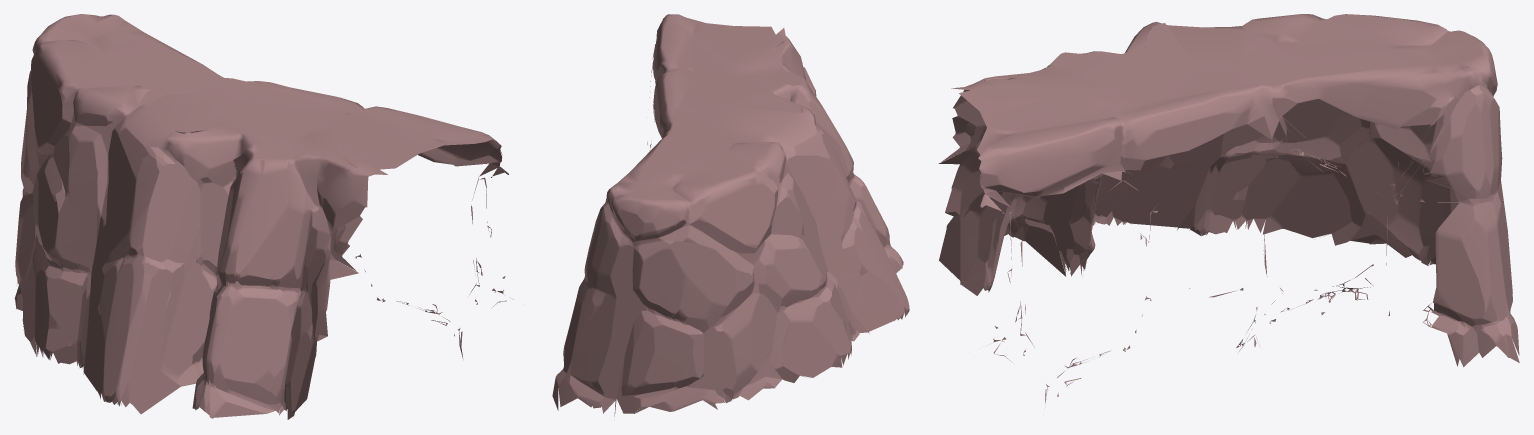
File: canyon.fbx_PolyShape__3__017LODs.fbx
The picture shows the model from 3 angles, left to right: view 1: azimuth 30°, elevation 25°; view 2: azimuth 150°, elevation 25°; view 3: azimuth 270°, elevation 25°; orthographic projection. The views are drawn at different scales.
Parts seen in each view (by area): view 1: PolyShape (3).017_LOD0; view 2: PolyShape (3).017_LOD0; view 3: PolyShape (3).017_LOD0.
Boxes of the visible parts, box(x1,y1,x2,y2) form: PolyShape (3).017_LOD0: box(14, 14, 508, 419); PolyShape (3).017_LOD0: box(552, 14, 909, 416); PolyShape (3).017_LOD0: box(938, 14, 1519, 406).
Size of what is drawn, in the model's own units: 3393 by 2311 by 4377.
